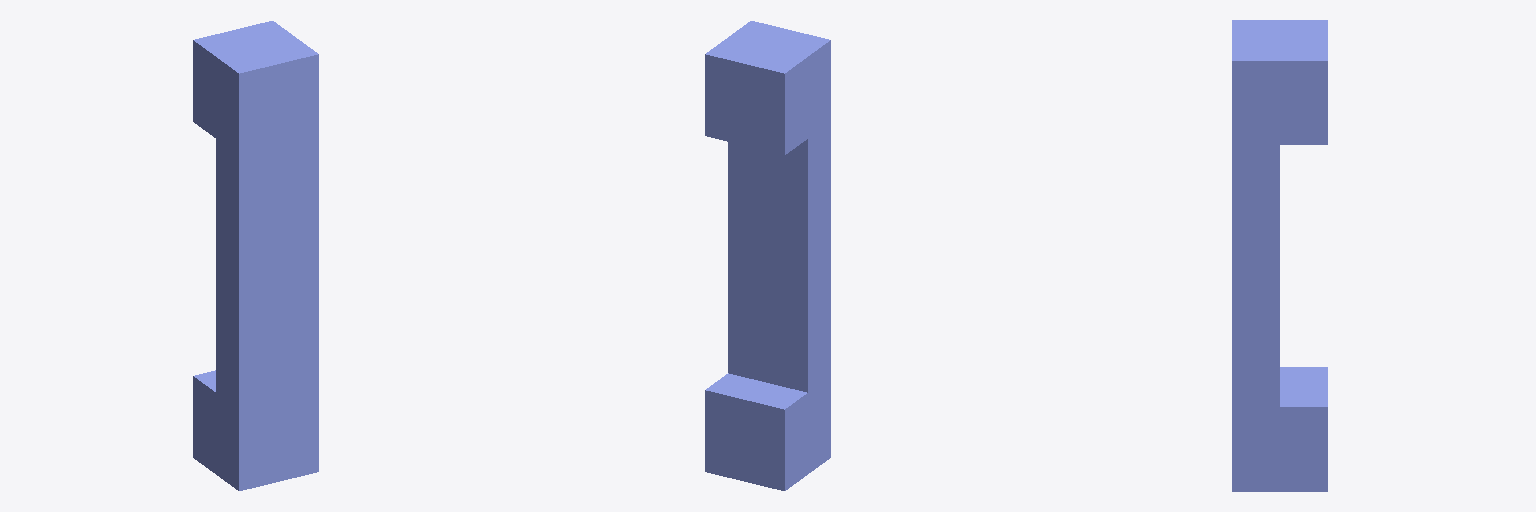
URDF robot description (obj_4):
<robot name="obj_4" version="1.0">
  <link name="obj_4_link">
    <collision name="obj_4_collision_1">
      <origin rpy="-1.57080 0.00000 0.00000" xyz="-1.75313 1.49751 3.38254"/>
      <geometry>
        <mesh filename="../meshes/obj/Cube.011.obj" scale="1.00000 0.98000 1.00000"/>
      </geometry>
    </collision>
    <collision name="obj_4_collision_2">
      <origin rpy="-1.57080 0.00000 0.00000" xyz="-1.75355 1.49751 0.36738"/>
      <geometry>
        <mesh filename="../meshes/obj/Cube.012.obj" scale="1.00000 0.98000 1.00000"/>
      </geometry>
    </collision>
    <collision name="obj_4_collision_3">
      <origin rpy="-1.57080 0.00000 0.00000" xyz="-1.75291 1.30991 1.87630"/>
      <geometry>
        <mesh filename="../meshes/obj/Cube.013.obj" scale="2.00000 6.08000 1.00000"/>
      </geometry>
    </collision>
    <inertial>
      <inertia ixx="6.65506" ixy="0.00000" ixz="0.00000" iyy="0.48424" iyz="0.00000" izz="6.58953"/>
      <origin rpy="0.00000 0.00000 0.00000" xyz="-1.75100 1.41500 1.87500"/>
      <mass value="5.00000"/>
    </inertial>
    <visual name="obj_4">
      <material name="turnaxis"/>
      <origin rpy="-1.57080 0.00000 0.00000" xyz="-1.75100 1.41500 1.87500"/>
      <geometry>
        <mesh filename="../meshes/obj/luban-lock-sliding.003.obj" scale="0.05000 0.05000 0.05000"/>
      </geometry>
    </visual>
  </link>
  <material name="turnaxis">
    <color rgba="0.63922 0.70196 1.00000 1.00000"/>
  </material>
</robot>

--- Facts derived from the render (not from the file) ---
The picture shows the robot from 3 angles, left to right: view 1: azimuth 30°, elevation 25°; view 2: azimuth 150°, elevation 25°; view 3: azimuth 270°, elevation 25°; orthographic projection.
Model obj_4 with 1 links and 0 joints (none), rooted at obj_4_link, posed every joint at zero.
Visible links, largest first — view 1: obj_4_link; view 2: obj_4_link; view 3: obj_4_link.
Boxes of the visible links, x1=… form: obj_4_link: x1=193, y1=21, x2=318, y2=490; obj_4_link: x1=705, y1=21, x2=830, y2=490; obj_4_link: x1=1232, y1=20, x2=1327, y2=491.
Size in the robot's own frame: 0.75 by 0.75 by 3.75 metres.
Meshes: 1 distinct files referenced, 1 mesh visuals loaded (1 OBJ).